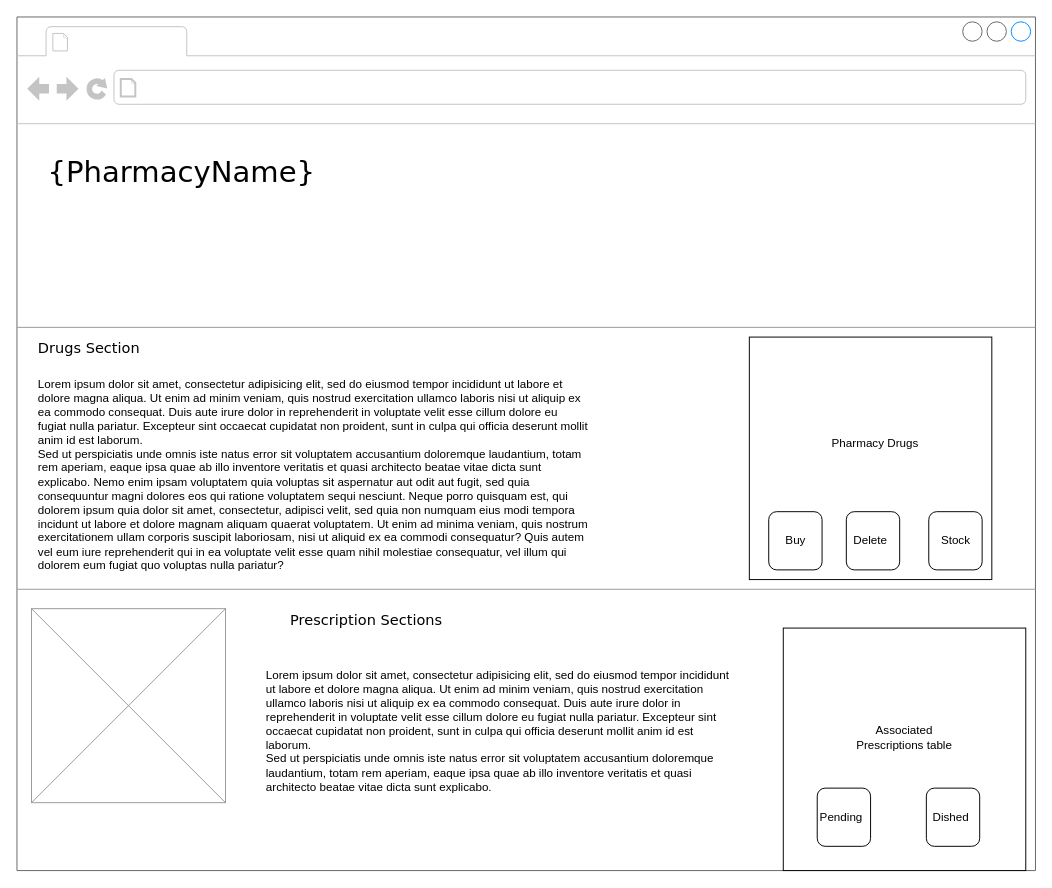
Some shapes in this 1052 by 888 pixel diagram are drawn without their labels. Each missing label, with the centre of its shape:
"https://www.cadawer.com/patient.html" goes at pixel 293 92.
"Page 1" goes at pixel 128 41.
